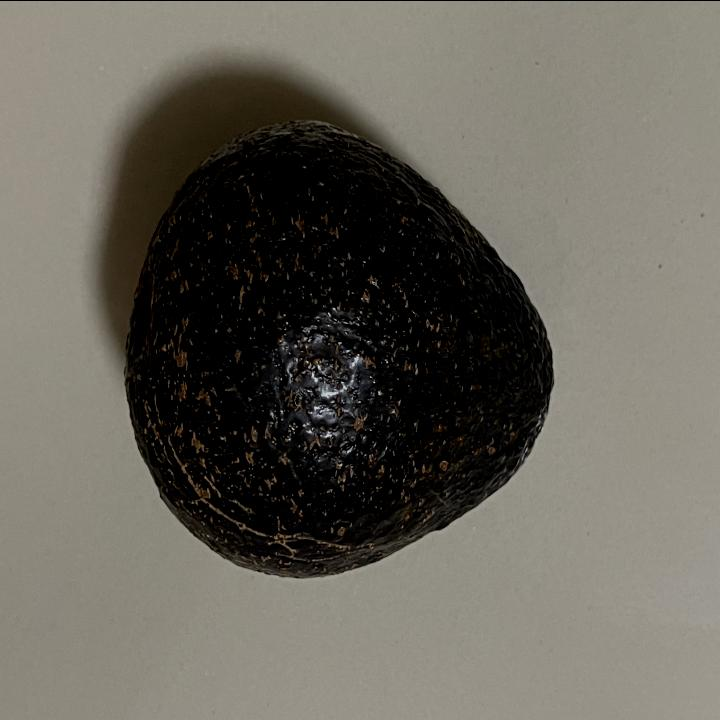Level3: (118, 107, 562, 589)
